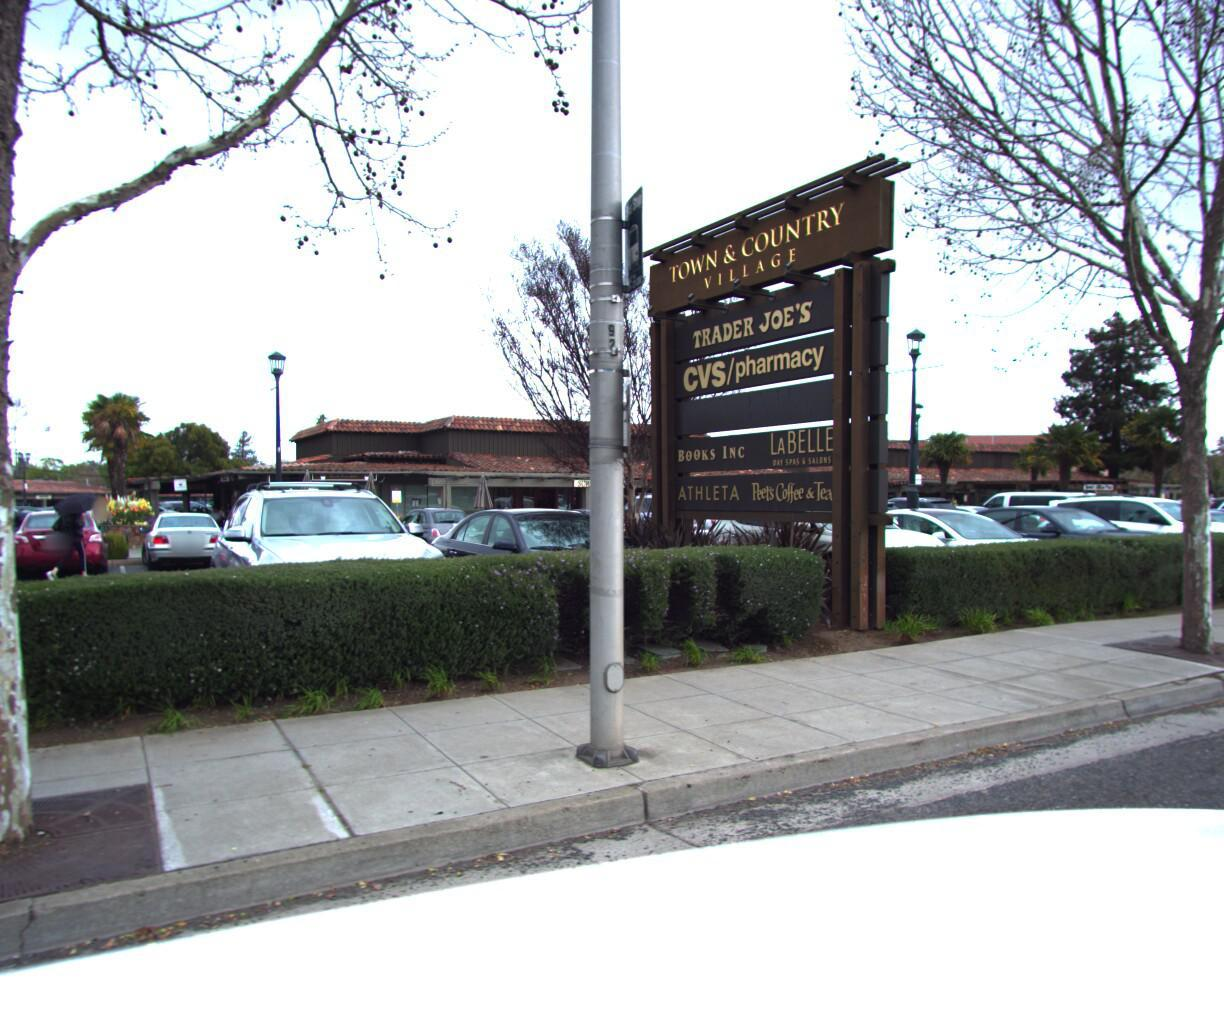car: (196, 476, 476, 684), (420, 504, 705, 653), (695, 491, 979, 620), (810, 506, 1088, 608), (925, 504, 1197, 594), (1033, 492, 1224, 587), (1096, 509, 1224, 578), (1154, 506, 1224, 574), (1197, 494, 1224, 571)
